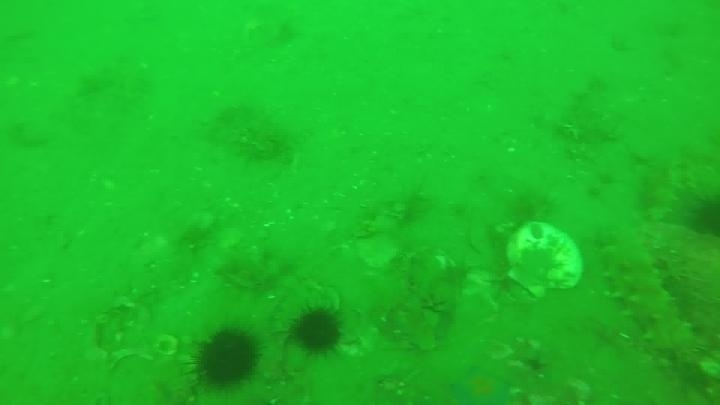echinus: (189, 326, 262, 390), (289, 305, 345, 357), (501, 189, 557, 238), (687, 192, 720, 240)
holothurian: (598, 234, 703, 359)
scallop: (502, 221, 585, 300), (356, 234, 402, 272)
starfish: (448, 365, 515, 405)
